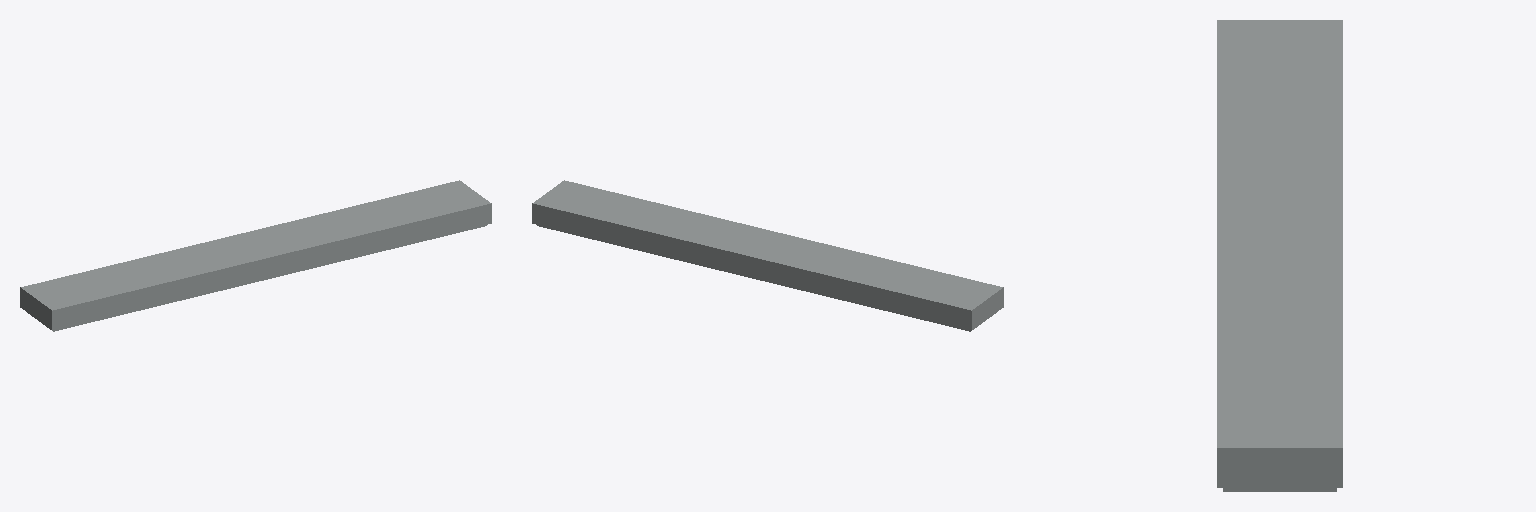
URDF robot description (4162__light_bluish_gray):
<?xml version="1.0"?>
<robot name="4162__light_bluish_gray">
  <link name="4162__light_bluish_gray">
    <inertial>
      <origin xyz="0.000000 0.000000 -0.001590" rpy="0 0 0"/>
      <mass value="0.001708"/>
      <inertia ixx="1.045025075e-08" ixy="-0.000000000e+00" ixz="-2.583914407e-25" iyy="5.837005138e-07" iyz="-0.000000000e+00" izz="5.912669651e-07"/>
    </inertial>
    <visual>
      <geometry>
        <mesh filename="../meshes/visual/4162.obj" scale="1 1 1"/>
      </geometry>
      <material name="4162__light_bluish_gray_color">
        <color rgba="0.630 0.650 0.650 1.000"/>
      </material>
    </visual>
    <collision>
      <geometry>
        <mesh filename="../meshes/collision/4162_hull.obj" scale="1 1 1"/>
      </geometry>
    </collision>
  </link>
</robot>

--- Render facts (derived) ---
The picture shows the robot from 3 angles, left to right: view 1: azimuth 30°, elevation 25°; view 2: azimuth 150°, elevation 25°; view 3: azimuth 270°, elevation 25°; orthographic projection.
Model 4162__light_bluish_gray with 1 links and 0 joints (none), rooted at 4162__light_bluish_gray, posed all joints at 0.
Links seen in each view (by area): view 1: 4162__light_bluish_gray; view 2: 4162__light_bluish_gray; view 3: 4162__light_bluish_gray.
Link boxes in pixels (box(x1,y1,x2,y2)): 4162__light_bluish_gray: box(20, 180, 491, 331); 4162__light_bluish_gray: box(532, 180, 1003, 331); 4162__light_bluish_gray: box(1217, 20, 1342, 491).
Size in the robot's own frame: 0.064 by 0.008 by 0.0032 metres.
Meshes: 1 distinct files referenced, 1 mesh visuals loaded (1 OBJ).
